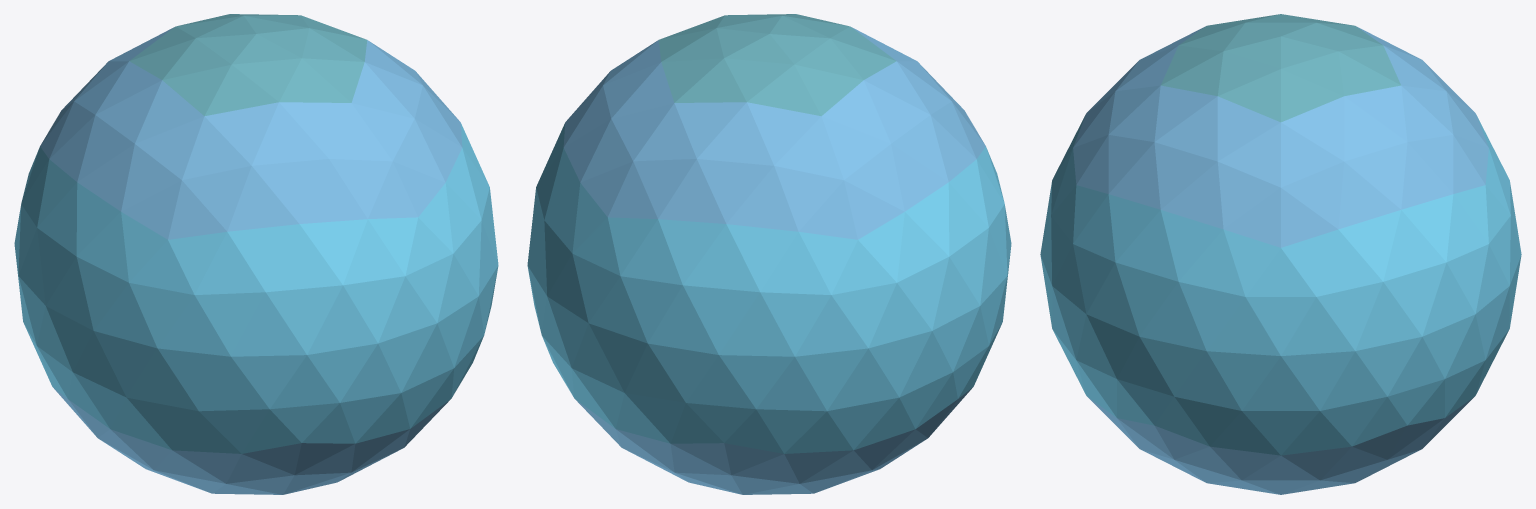
Rendered from uranus.glb.
The picture shows the model from 3 angles, left to right: view 1: azimuth 30°, elevation 25°; view 2: azimuth 150°, elevation 25°; view 3: azimuth 270°, elevation 25°; orthographic projection.
Parts seen in each view (by area): view 1: Icosphere; view 2: Icosphere; view 3: Icosphere.
Boxes of the visible parts, x1,y1,x2,y2 form: Icosphere: (14,14,498,494); Icosphere: (527,14,1011,494); Icosphere: (1040,14,1521,494).
Bounding box in the file's own units: 5.07 × 5.07 × 5.07.
